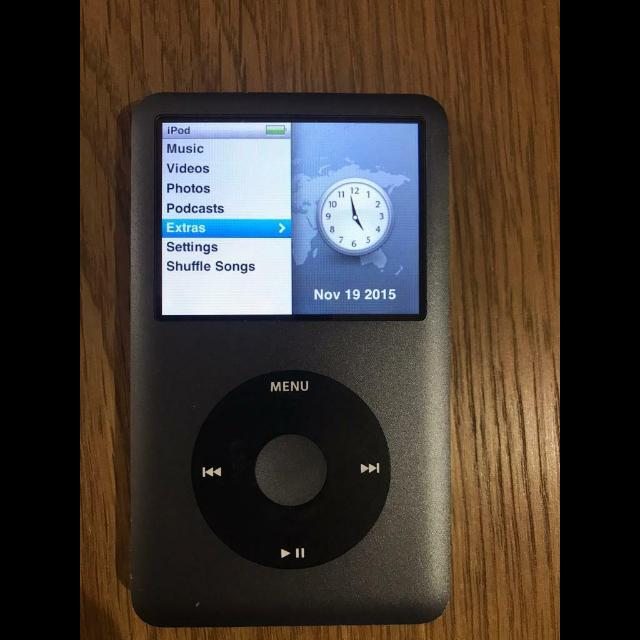Music-Player: (114, 80, 464, 634)
